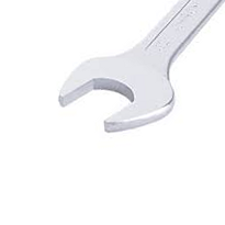Wrench: (43, 1, 225, 140)
